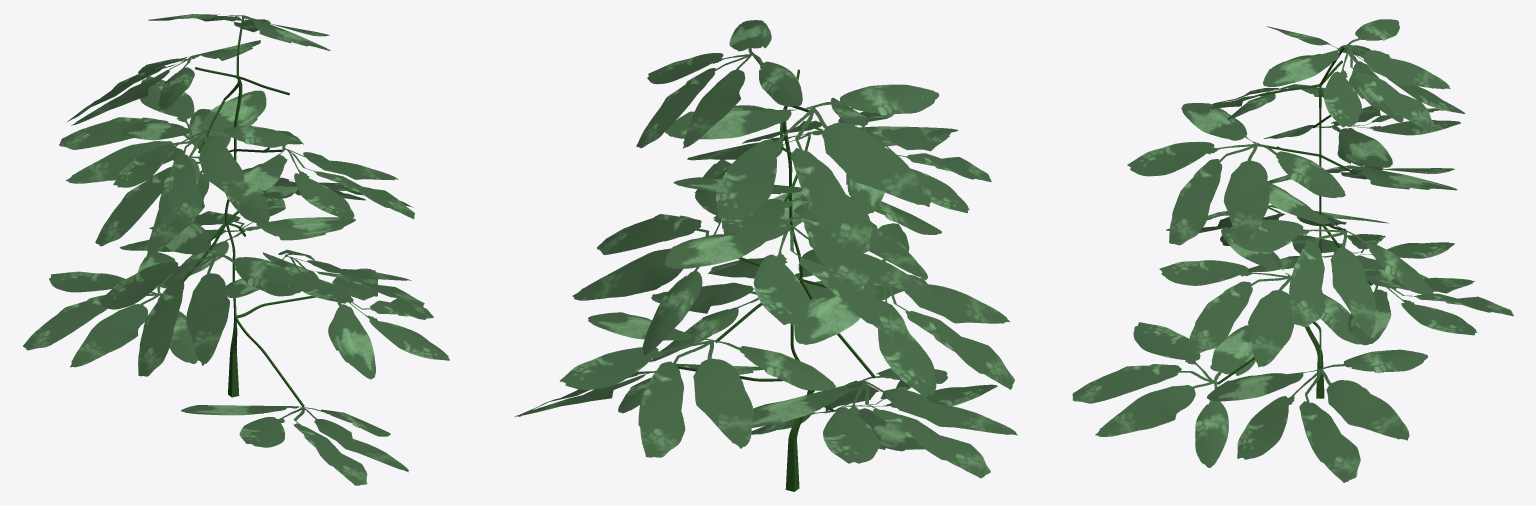
The model's file is schleffera plant 01.fbx.
3 views of the same model, side by side, from view 1: azimuth 30°, elevation 25°; view 2: azimuth 150°, elevation 25°; view 3: azimuth 270°, elevation 25° (orthographic). The views are drawn at different scales.
Visible parts, largest first — view 1: Plane.119; view 2: Plane.119; view 3: Plane.119.
Part boxes in pixels (<box>): Plane.119: <box>23,14,449,485</box>; Plane.119: <box>514,20,1017,491</box>; Plane.119: <box>1072,19,1513,482</box>.
Size of the model in its own units: 405 by 366 by 394.
